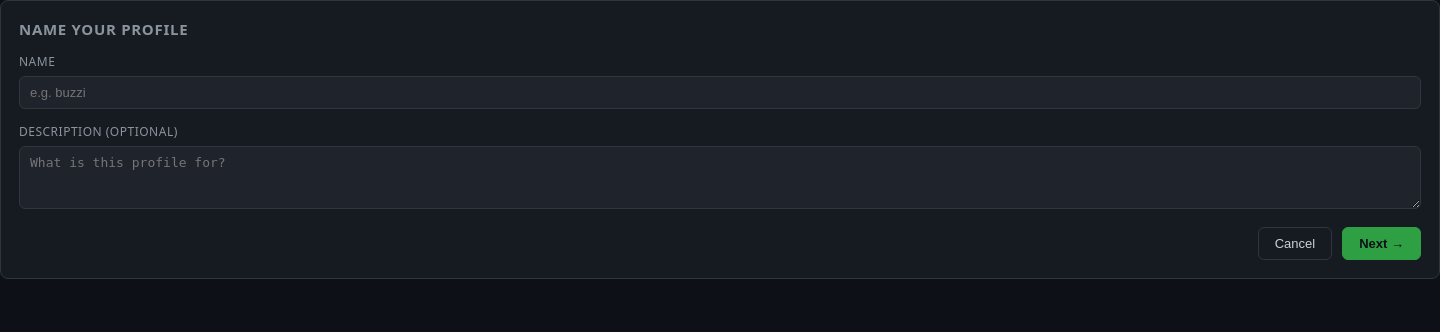
NameStep error feedback › submitting empty name sets aria-invalid + role=alert + focuses field
Click the button with test id "wizard-next".
click(1382, 244)  # box left=1342, top=227, right=1421, bottom=260
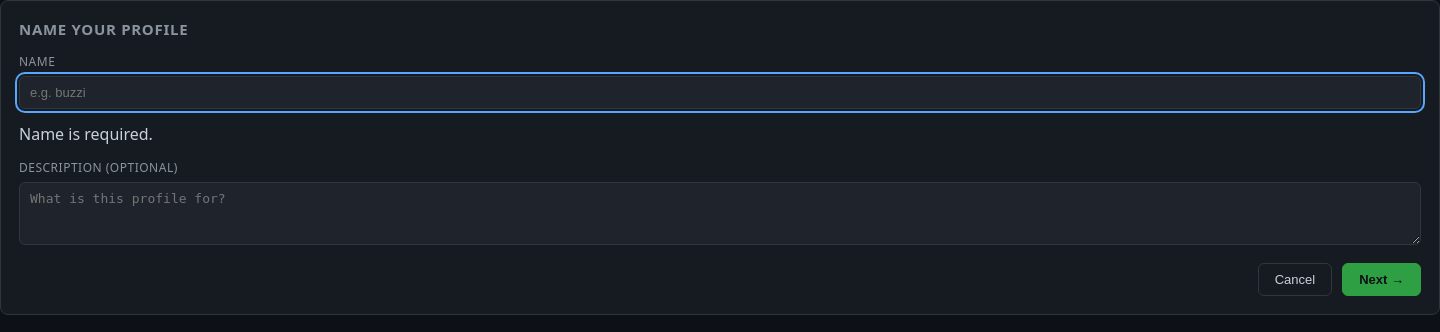
Check: the message shows "Name is required", box left=19, top=123, right=153, bottom=145
